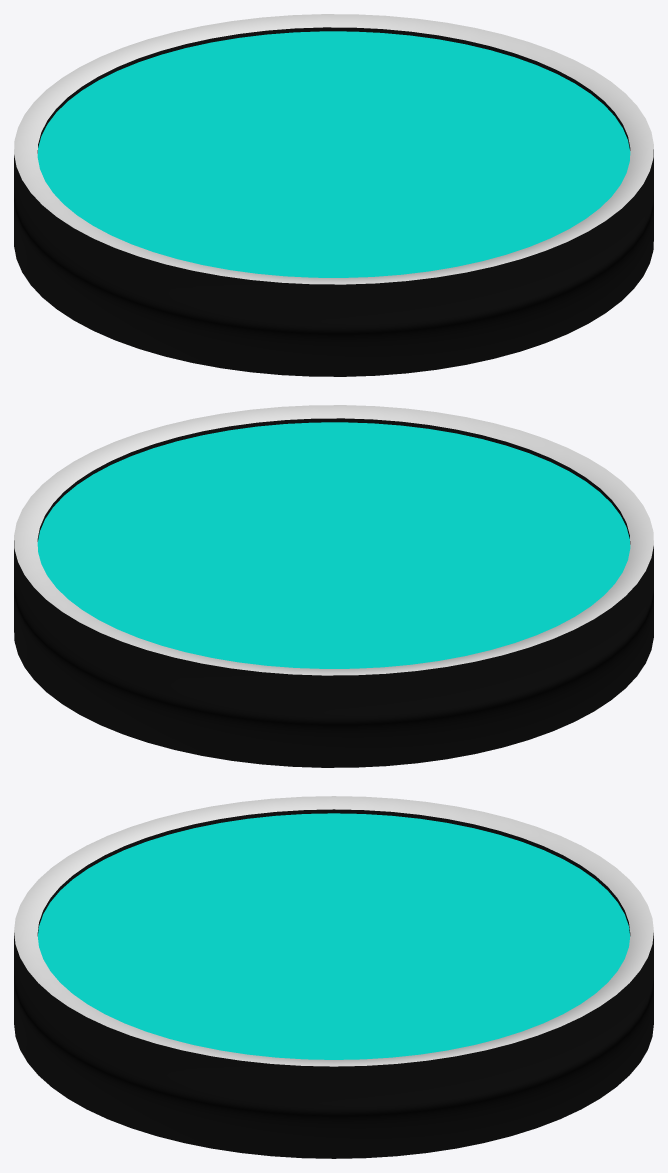
The model's file is kevero.fbx.
3 views of the same model, one above another, from view 1: azimuth 30°, elevation 25°; view 2: azimuth 150°, elevation 25°; view 3: azimuth 270°, elevation 25° (orthographic).
Visible parts, largest first — view 1: Cylinder.002, Cylinder; view 2: Cylinder.002, Cylinder; view 3: Cylinder.002, Cylinder.
Part boxes in pixels (x1,y1,x2,y2): Cylinder.002: (37, 31, 630, 277); Cylinder: (14, 14, 653, 376); Cylinder.002: (37, 422, 630, 668); Cylinder: (14, 405, 653, 767); Cylinder.002: (37, 813, 630, 1059); Cylinder: (14, 796, 653, 1158).
Size of the model in its own units: 704 by 112 by 704.
